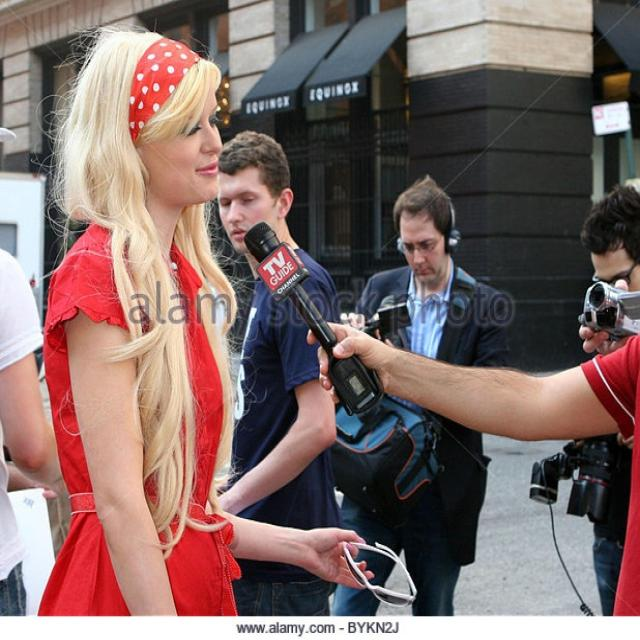body: (32, 19, 379, 619), (305, 254, 640, 617), (315, 175, 517, 639), (210, 129, 344, 619), (0, 98, 91, 621), (572, 179, 640, 618)
